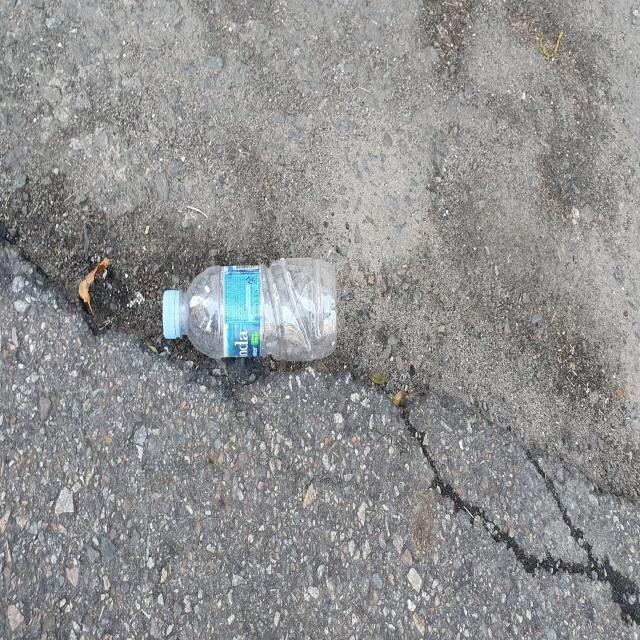plastic: (163, 257, 337, 361)
